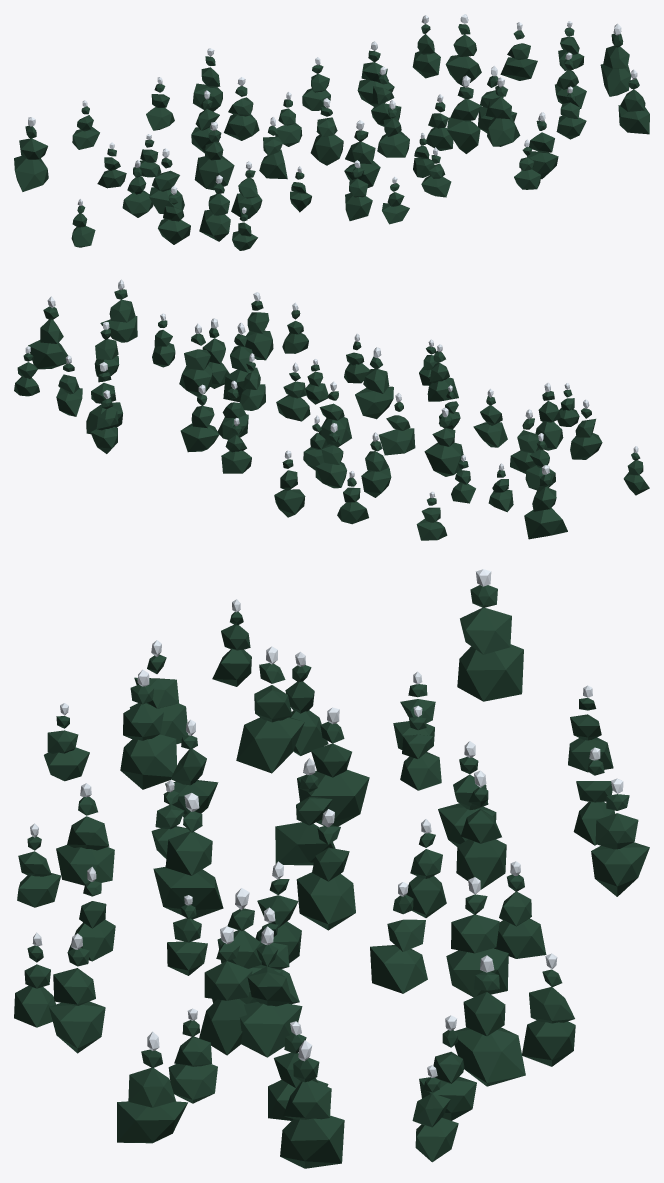
The model's file is Frontier_Grove_Far_A.fbx.
3 renders of one model, top to bottom at view 1: azimuth 30°, elevation 25°; view 2: azimuth 150°, elevation 25°; view 3: azimuth 270°, elevation 25°, orthographic. The views are drawn at different scales.
Parts seen in each view (by area): view 1: Frontier_Grove_Far_A; view 2: Frontier_Grove_Far_A; view 3: Frontier_Grove_Far_A.
Part boxes in pixels (box(x1,y1,x2,y2)): Frontier_Grove_Far_A: box(14, 14, 649, 250); Frontier_Grove_Far_A: box(14, 279, 649, 540); Frontier_Grove_Far_A: box(14, 569, 649, 1168).
Size of the model in its own units: 5907 by 777 by 3117.
